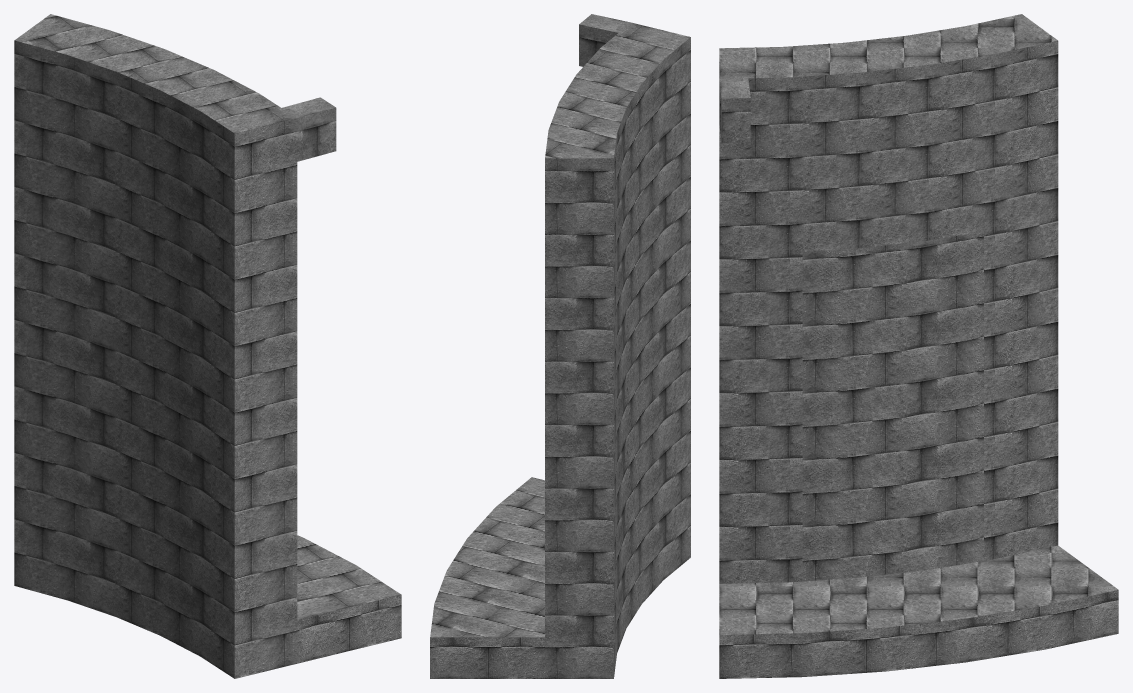
The model's file is tile9.dae.
3 renders of one model, left to right at view 1: azimuth 30°, elevation 25°; view 2: azimuth 150°, elevation 25°; view 3: azimuth 270°, elevation 25°, orthographic. The views are drawn at different scales.
Parts seen in each view (by area): view 1: SketchUp (×2); view 2: SketchUp (×2); view 3: SketchUp (×2).
Boxes of the visible parts, x1,y1,x2,y2 form: SketchUp (×2): (14,14,401,678); SketchUp (×2): (430,14,690,678); SketchUp (×2): (719,14,1118,678).
Size of the model in its own units: 44.68 by 64.96 by 98.43.
Materials: 2 (1 with a texture image).
